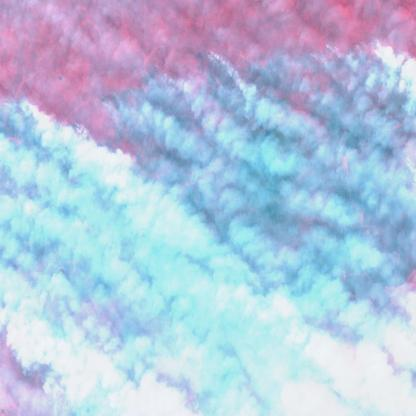fire: (101, 38, 323, 126), (1, 286, 113, 416), (331, 37, 416, 203), (0, 83, 97, 162), (353, 307, 416, 365)
